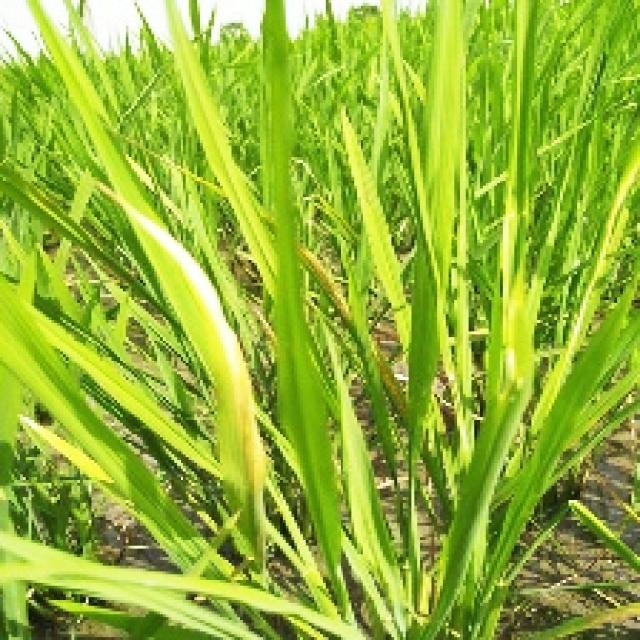health: (132, 0, 635, 620)
